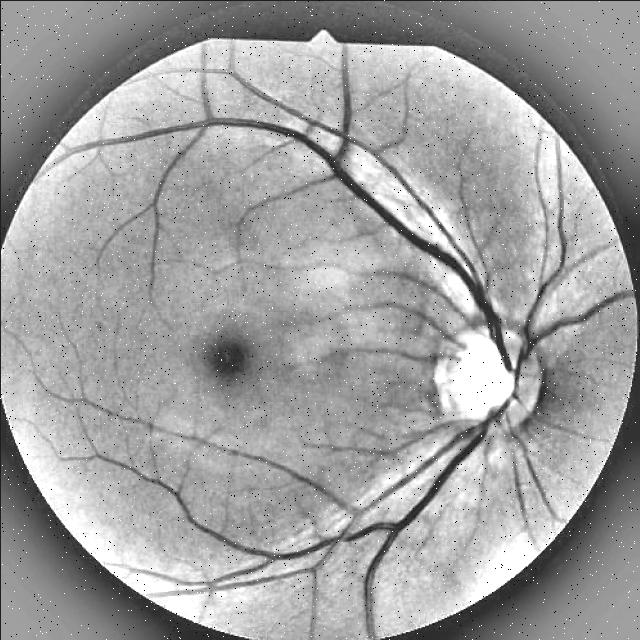Macula: (178, 315, 280, 414)
Nerves: (141, 365, 518, 638), (112, 117, 514, 370)
Optic Disk: (404, 302, 571, 475)
